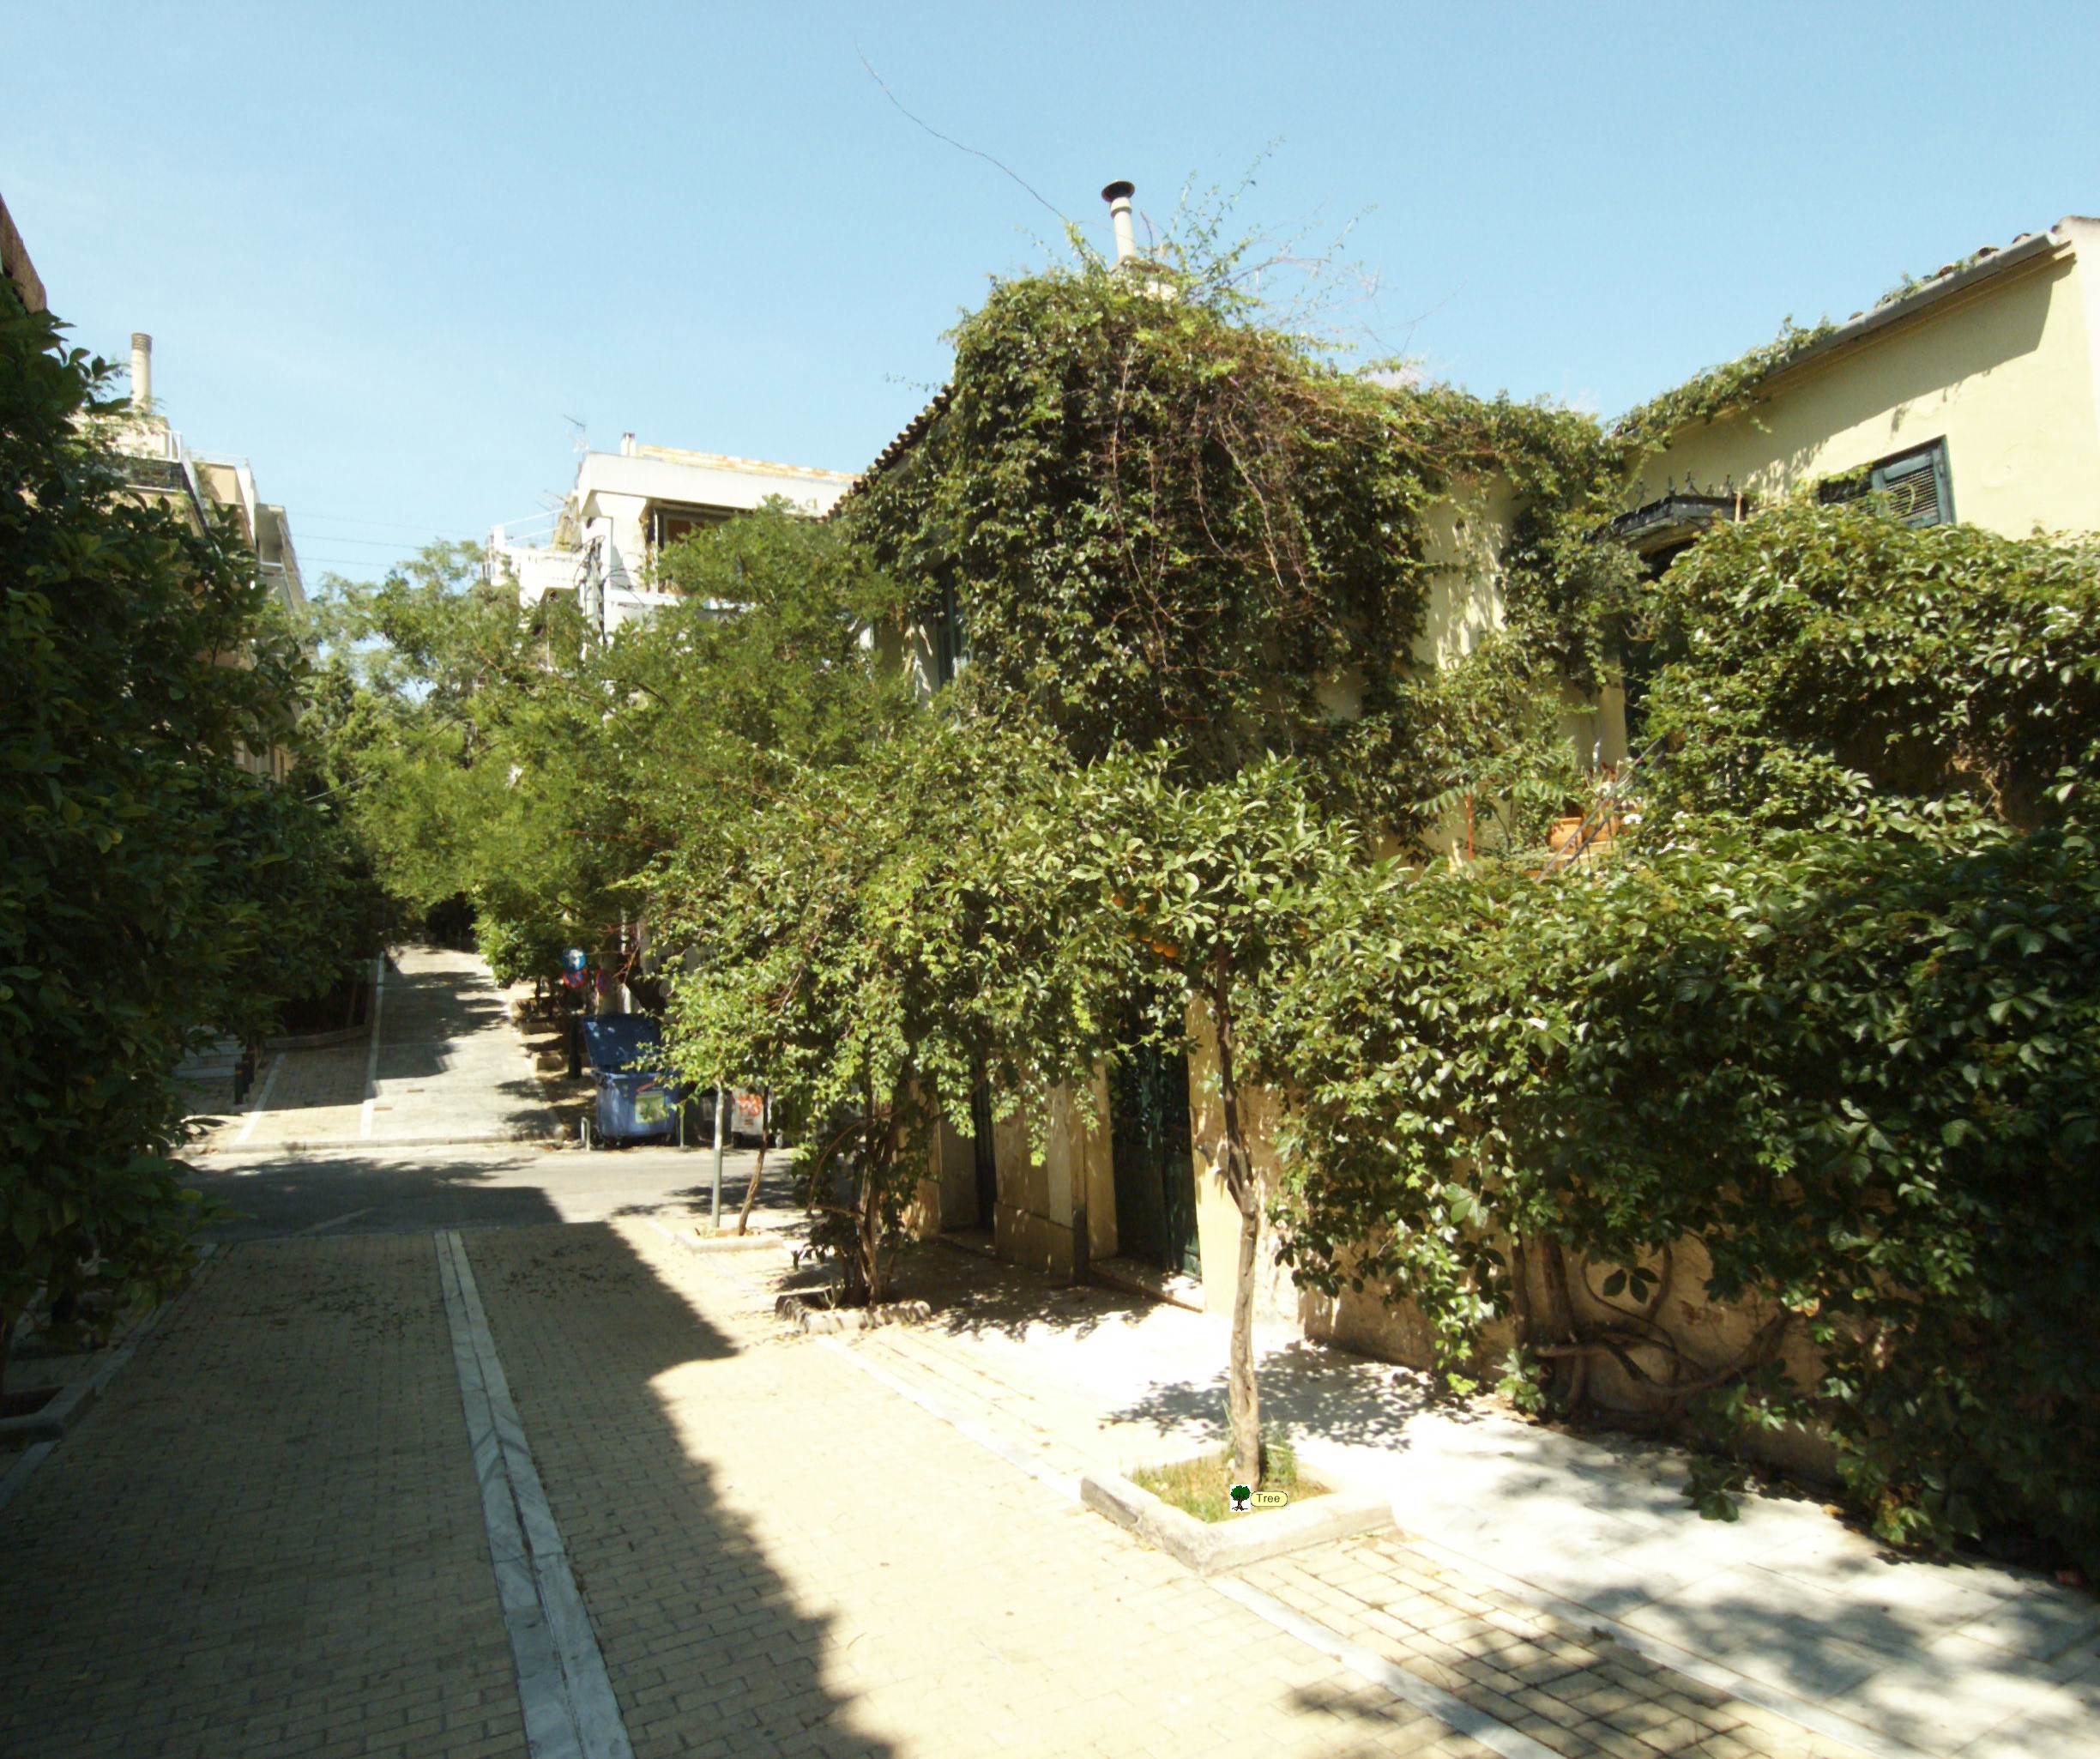tree: (998, 735, 1575, 1541)
